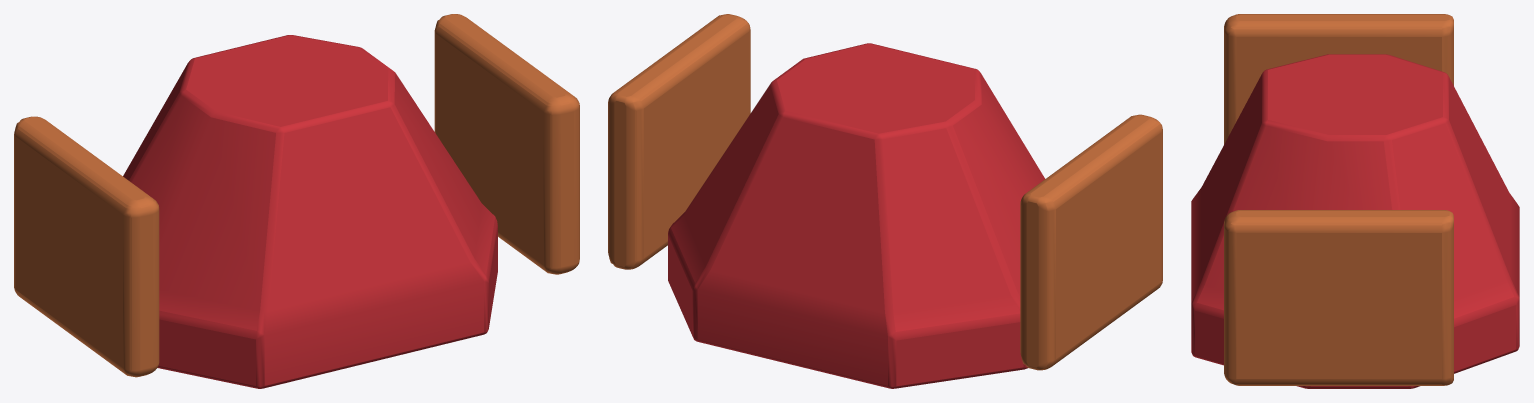
The model's file is AnimalHeadBack_Set06_Voltaic.fbx.
3 renders of one model, left to right at view 1: azimuth 30°, elevation 25°; view 2: azimuth 150°, elevation 25°; view 3: azimuth 270°, elevation 25°, orthographic. The views are drawn at different scales.
Parts seen in each view (by area): view 1: AnimalHeadBack_Set06_Voltaic; view 2: AnimalHeadBack_Set06_Voltaic; view 3: AnimalHeadBack_Set06_Voltaic.
Boxes of the visible parts, <box> form: AnimalHeadBack_Set06_Voltaic: <box>14,14,579,388</box>; AnimalHeadBack_Set06_Voltaic: <box>608,14,1162,388</box>; AnimalHeadBack_Set06_Voltaic: <box>1191,14,1519,388</box>.
Size of the model in its own units: 0.52 by 0.24 by 0.34.
